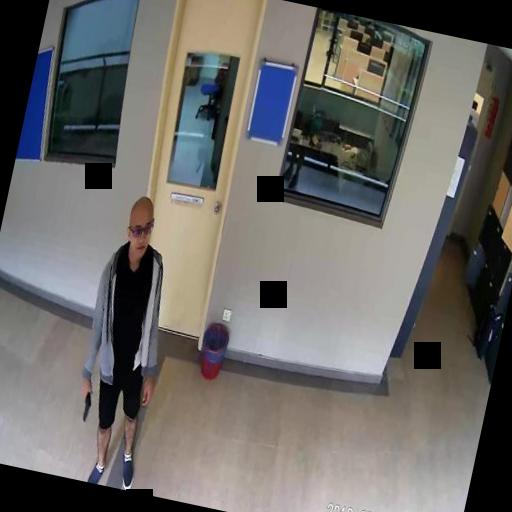Handgun: (76, 383, 94, 419)
